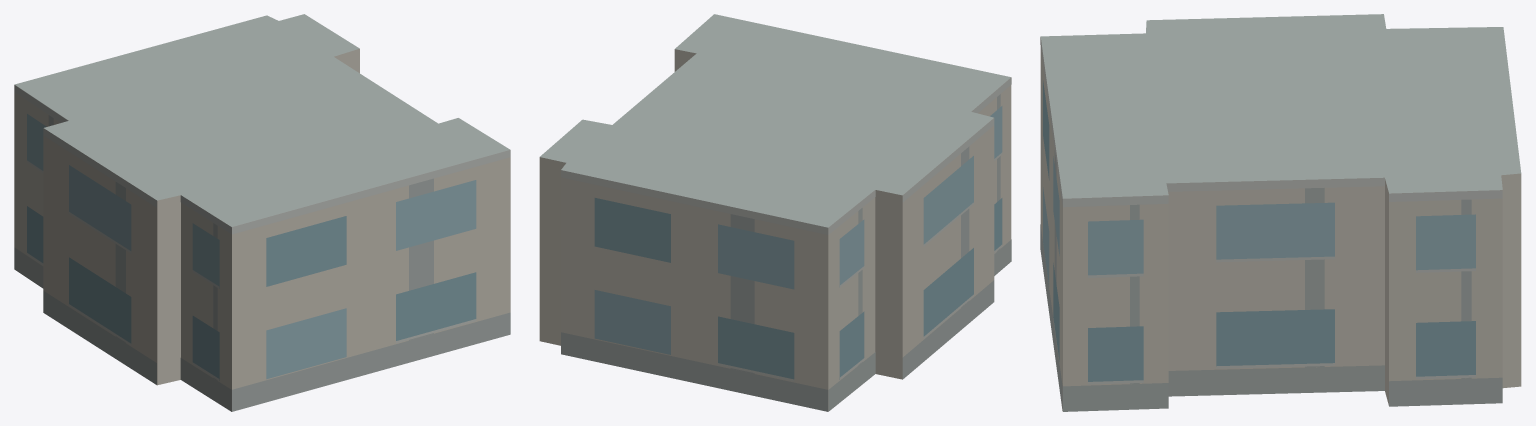
Rendered from survey-upis-32730600.glb.
3 views of the same model, side by side, from view 1: azimuth 30°, elevation 25°; view 2: azimuth 150°, elevation 25°; view 3: azimuth 270°, elevation 25° (orthographic). The views are drawn at different scales.
Visible parts, largest first — view 1: survey-upis-32730600.tmp; view 2: survey-upis-32730600.tmp; view 3: survey-upis-32730600.tmp.
Boxes of the visible parts, x1,y1,x2,y2 form: survey-upis-32730600.tmp: (14, 14, 510, 411); survey-upis-32730600.tmp: (539, 14, 1011, 411); survey-upis-32730600.tmp: (1040, 14, 1521, 411).
Bounding box in the file's own units: 11.35 × 6.1 × 12.48.
